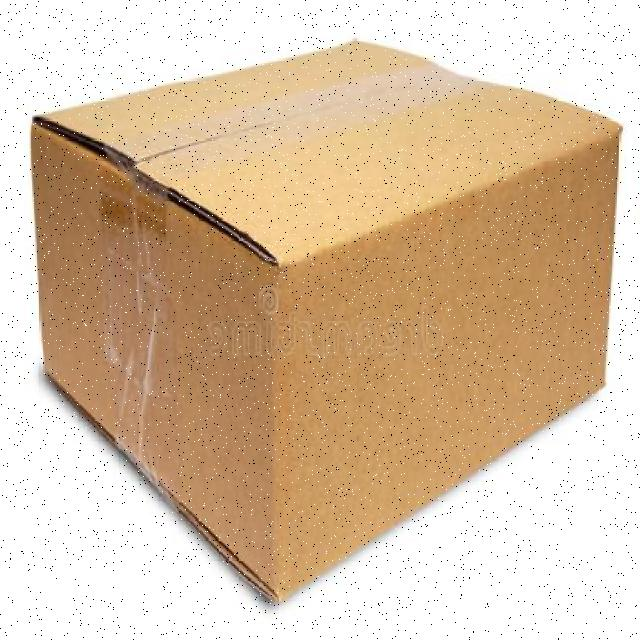normal: (32, 30, 630, 612)
